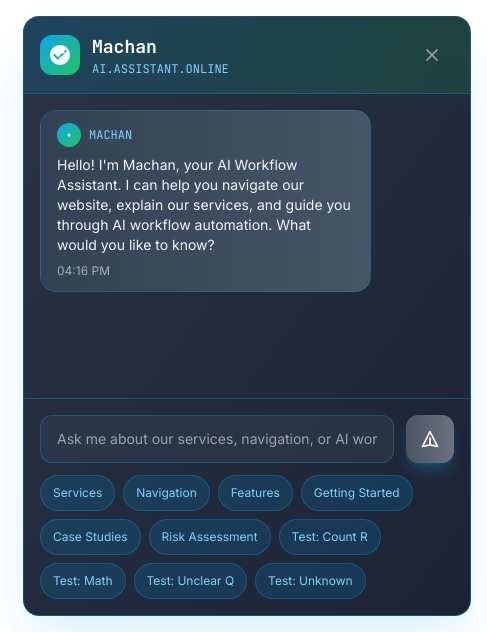
Test: AIAssistant › handles Enter key to send messages
The width and height of the screenshot is (487, 632).
Type "Test message" into the field with placeholder "Ask me about our services, navigation, or AI workflows...". click: (217, 439)
box: [40, 415, 394, 463]
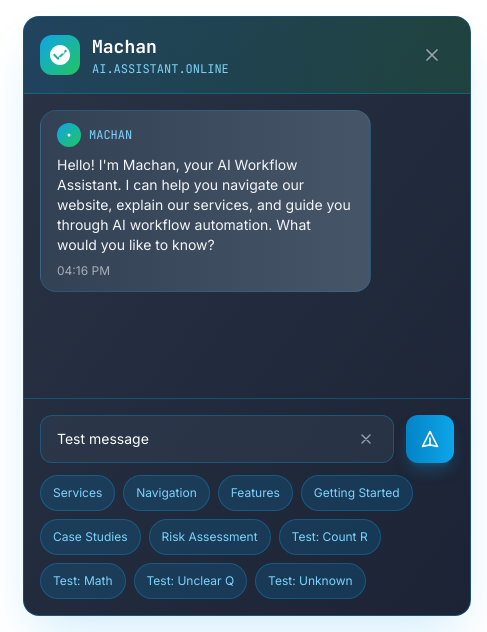
Press Enter in the field with placeholder "Ask me about our services, navigation, or AI workflows...", box [40, 415, 394, 463]
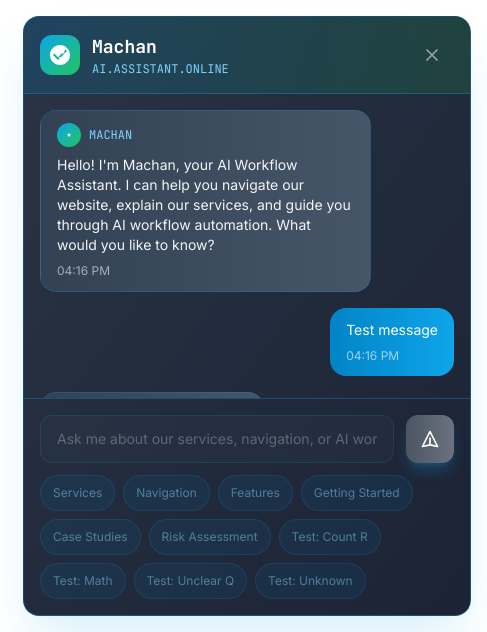
Now the text "Test message" is shown, box [346, 320, 438, 340]
